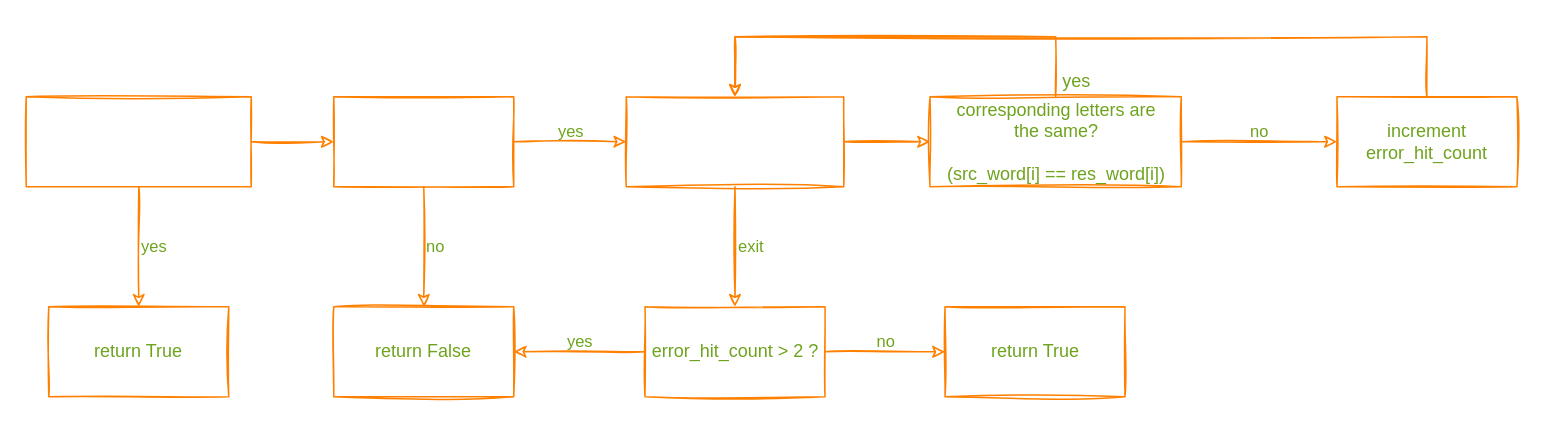
This 1544x423 diagram has some shape labels left out. Each missing label, with the centre of its shape:
both words are the same? (src_word == res_word): the point at 138,141
for i in range(length of either of the words): the point at 734,141
length of both words are the same?: the point at 423,141
